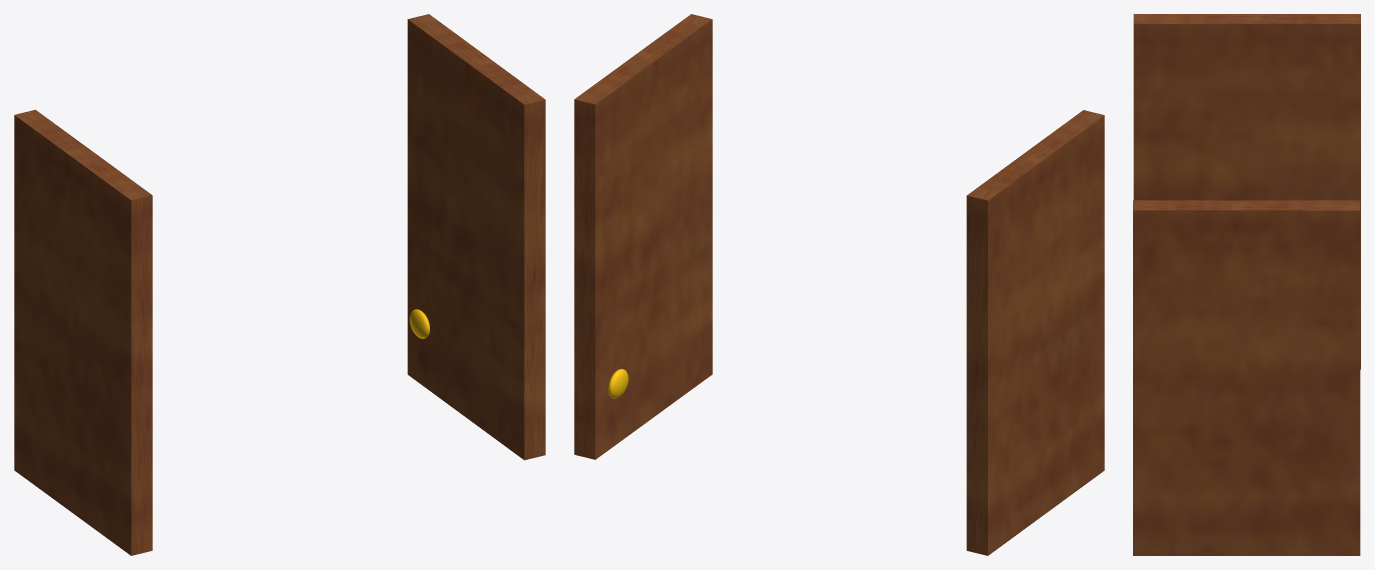
File: Door_newOpen.fbx
3 views of the same model, side by side, from view 1: azimuth 30°, elevation 25°; view 2: azimuth 150°, elevation 25°; view 3: azimuth 270°, elevation 25° (orthographic). The views are drawn at different scales.
Visible parts, largest first — view 1: Cube; view 2: Cube; view 3: Cube.
Part boxes in pixels (x1,y1,x2,y2): Cube: (14,14,545,555); Cube: (574,14,1104,555); Cube: (1133,14,1360,555).
Bounding box in the file's own units: 11.91 × 9.76 × 5.84.
Materials: 2 (2 with a texture image).
